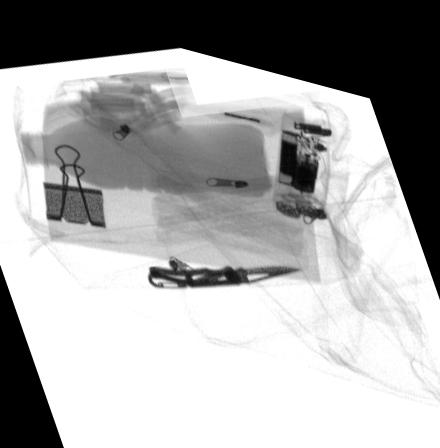Knife: (147, 251, 302, 278)
